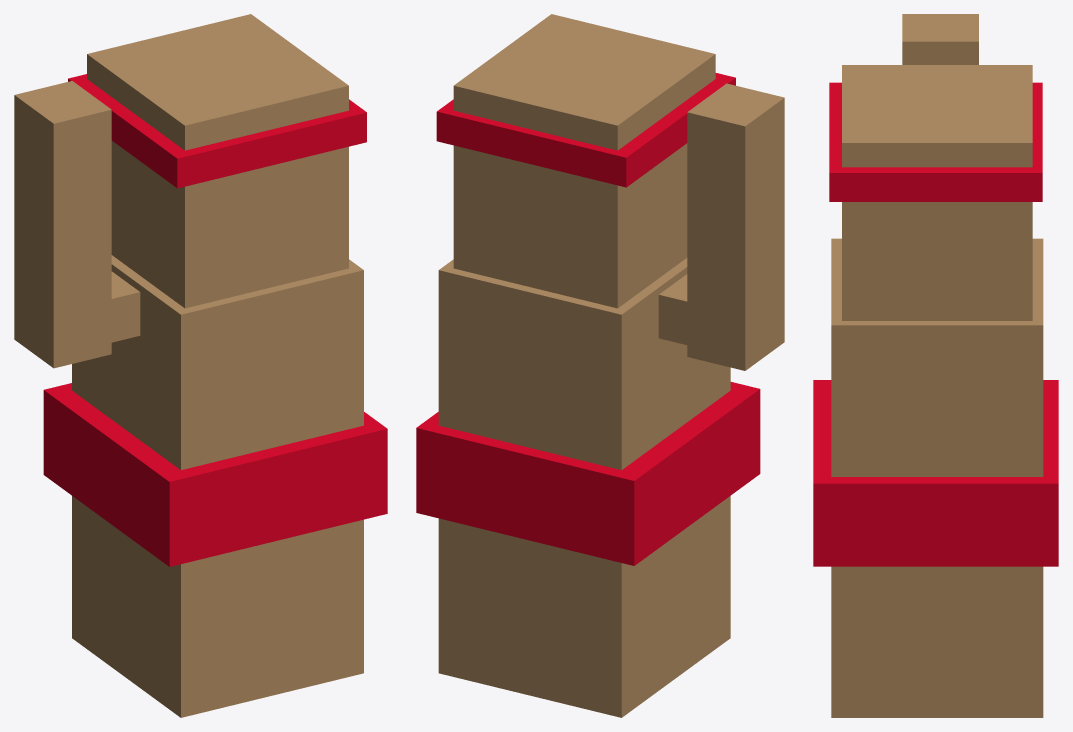
The model's file is Primvil.fbx.
The picture shows the model from 3 angles, left to right: view 1: azimuth 30°, elevation 25°; view 2: azimuth 150°, elevation 25°; view 3: azimuth 270°, elevation 25°; orthographic projection. The views are drawn at different scales.
Visible parts, largest first — view 1: Lawas ug Dugo, Bakos, Cube, Headband; view 2: Lawas ug Dugo, Bakos, Cube, Headband; view 3: Lawas ug Dugo, Bakos, Headband, Cube.
Part boxes in pixels (x1,y1,x2,y2): Lawas ug Dugo: (72,14,363,717); Bakos: (43,383,387,566); Cube: (14,81,140,368); Headband: (68,74,366,188); Lawas ug Dugo: (438,14,730,717); Bakos: (416,382,760,565); Cube: (658,83,784,370); Headband: (436,73,735,187); Lawas ug Dugo: (831,65,1043,717); Bakos: (813,380,1058,566); Headband: (829,82,1042,201); Cube: (902,14,978,64).
Bounding box in the file's own units: 22.66 × 44.31 × 17.15.
